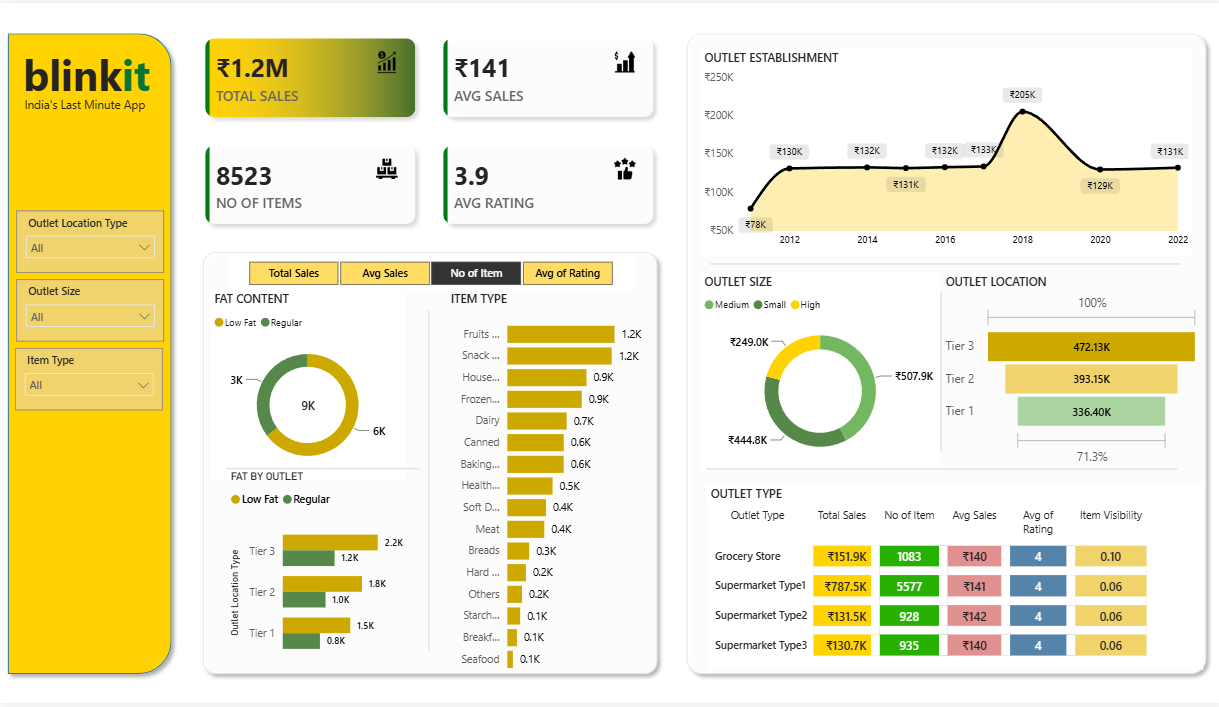

The dashboard page shown, as its layout file describes it:
{"tool":"powerbi","page":{"name":"Page 1","canvas":[1400,800],"ordinal":0},"visuals":[{"type":"shape","box":[0,25,205,750],"z":0},{"type":"textbox","box":[21.7,25,165,93.3],"z":1000},{"type":"textbox","box":[23.3,85,165,93.3],"z":2000},{"type":"cardVisual","fields":{"Data":["BlinkIT Grocery Data.Total Sales","BlinkIT Grocery Data.Avg Sales","BlinkIT Grocery Data.No of Item","BlinkIT Grocery Data.Avg of Rating"]},"box":[205.7,11.4,570,270],"z":3000},{"type":"shape","box":[222.9,275.7,537.1,500],"z":4000},{"type":"donutChart","title":"FAT CONTENT","fields":{"Y":["BlinkIT Grocery Data.No of Item"],"Category":["BlinkIT Grocery Data.Item Fat Content"]},"box":[240.3,329.2,223.6,216.7],"z":5000},{"type":"slicer","fields":{"Values":["Metrics.Metrics"]},"box":[258.3,288.9,465.3,40.3],"z":6000},{"type":"cardVisual","fields":{"Data":["BlinkIT Grocery Data.No of Item"]},"box":[306.9,437.5,90.3,45.8],"z":7000},{"type":"clusteredBarChart","title":"FAT BY OUTLET","fields":{"Y":["BlinkIT Grocery Data.No of Item"],"Category":["BlinkIT Grocery Data.Outlet Location Type"],"Series":["BlinkIT Grocery Data.Item Fat Content"]},"box":[258.9,534.4,220,230],"z":8000},{"type":"shape","box":[258.9,430,221.1,204.4],"z":9000},{"type":"shape","box":[396.2,351.2,188.8,388.8],"z":10000},{"type":"barChart","title":"ITEM TYPE","fields":{"Y":["BlinkIT Grocery Data.No of Item"],"Category":["BlinkIT Grocery Data.Item Type"]},"box":[510,328.3,228.3,446.7],"z":11000},{"type":"shape","box":[775,25,611.7,750],"z":12000},{"type":"lineChart","title":"OUTLET ESTABLISHMENT","fields":{"Y":["BlinkIT Grocery Data.Total Sales"],"Category":["BlinkIT Grocery Data.Outlet Establishment Year"]},"box":[800,53.3,563.3,235],"z":13000},{"type":"shape","box":[811.7,195,538.3,205],"z":14000},{"type":"donutChart","title":"OUTLET SIZE","fields":{"Y":["BlinkIT Grocery Data.Total Sales"],"Category":["BlinkIT Grocery Data.Outlet Size"]},"box":[800,308.3,275,225],"z":15000},{"type":"funnel","title":"OUTLET LOCATION","fields":{"Y":["Sum(BlinkIT Grocery Data.Sales)"],"Category":["BlinkIT Grocery Data.Outlet Location Type"]},"box":[1075,308.3,300,225],"z":16000},{"type":"shape","box":[806.7,430,538.3,205],"z":17000},{"type":"shape","box":[981.7,330,188.3,181.7],"z":18000},{"type":"pivotTable","title":"OUTLET TYPE","fields":{"Rows":["BlinkIT Grocery Data.Outlet Type"],"Values":["BlinkIT Grocery Data.Total Sales","BlinkIT Grocery Data.No of Item","BlinkIT Grocery Data.Avg Sales","BlinkIT Grocery Data.Avg of Rating","Avg(BlinkIT Grocery Data.Item Visibility)"]},"box":[806.7,551.7,568.3,210],"z":19000},{"type":"slicer","fields":{"Values":["BlinkIT Grocery Data.Outlet Location Type"]},"box":[18.9,237.8,168.9,71.1],"z":20000},{"type":"slicer","fields":{"Values":["BlinkIT Grocery Data.Outlet Size"]},"box":[18.9,315.6,168.9,71.1],"z":21000},{"type":"slicer","fields":{"Values":["BlinkIT Grocery Data.Item Type"]},"box":[17.8,394.4,168.9,71.1],"z":22000}]}

Visuals, with their boxes in screenshot pixels (x1, y1, x2, y2), scaled from the page's 1400x800 canvas onto the 1219x707 screenshot:
shape: box(0, 22, 178, 685)
textbox: box(19, 22, 163, 105)
textbox: box(20, 75, 164, 158)
cardVisual - BlinkIT Grocery Data.Total Sales x BlinkIT Grocery Data.Avg Sales: box(179, 10, 675, 249)
shape: box(194, 244, 662, 686)
"FAT CONTENT" donutChart: box(209, 291, 404, 482)
slicer - Metrics.Metrics: box(225, 255, 630, 291)
cardVisual - BlinkIT Grocery Data.No of Item: box(267, 387, 346, 427)
"FAT BY OUTLET" clusteredBarChart: box(225, 472, 417, 676)
shape: box(225, 380, 418, 561)
shape: box(345, 310, 509, 654)
"ITEM TYPE" barChart: box(444, 290, 643, 685)
shape: box(675, 22, 1207, 685)
"OUTLET ESTABLISHMENT" lineChart: box(697, 47, 1187, 255)
shape: box(707, 172, 1175, 354)
"OUTLET SIZE" donutChart: box(697, 272, 936, 471)
"OUTLET LOCATION" funnel: box(936, 272, 1197, 471)
shape: box(702, 380, 1171, 561)
shape: box(855, 292, 1019, 452)
"OUTLET TYPE" pivotTable: box(702, 488, 1197, 673)
slicer - BlinkIT Grocery Data.Outlet Location Type: box(16, 210, 164, 273)
slicer - BlinkIT Grocery Data.Outlet Size: box(16, 279, 164, 342)
slicer - BlinkIT Grocery Data.Item Type: box(15, 349, 163, 411)
